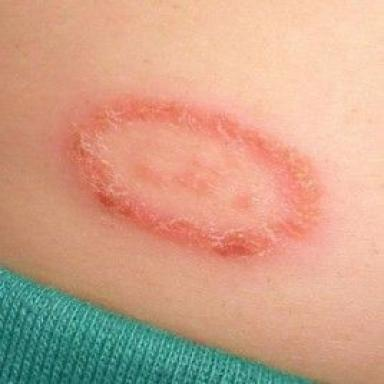Tinea-Corporis: (71, 99, 321, 256)
